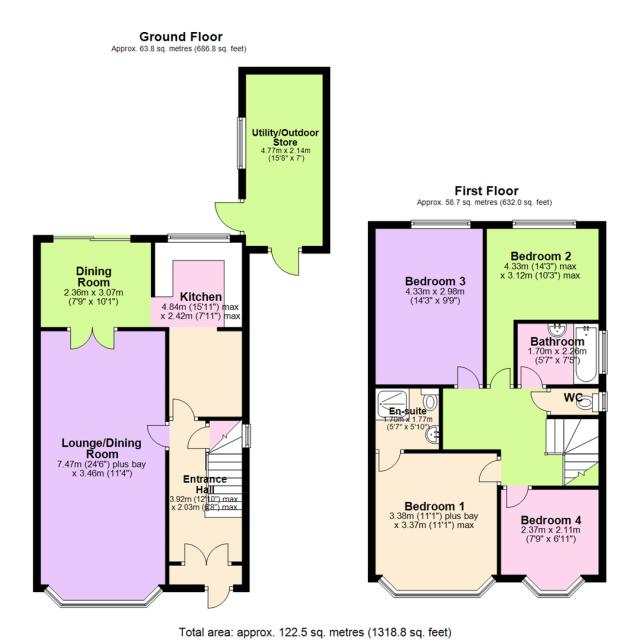DOOR: (212, 199, 247, 234), (267, 245, 302, 278), (143, 423, 171, 450), (205, 584, 232, 612), (454, 363, 481, 391), (518, 363, 545, 391), (476, 457, 503, 485), (503, 483, 531, 510), (170, 396, 197, 423), (377, 447, 403, 474), (185, 424, 211, 450), (487, 366, 513, 391), (528, 390, 552, 414)
DOUBLE DOOR: (67, 326, 118, 352)
ROOM: (31, 232, 251, 422), (30, 325, 170, 611), (211, 65, 333, 277), (481, 220, 607, 389), (366, 448, 503, 602), (367, 220, 489, 390), (495, 484, 607, 600)
SLIDING DOOR: (51, 234, 133, 243)
WINDOW: (390, 587, 482, 600), (59, 597, 149, 609), (410, 218, 473, 231), (512, 218, 578, 230), (166, 232, 231, 244), (234, 116, 248, 171), (40, 582, 66, 611), (374, 573, 400, 601), (596, 328, 610, 377), (141, 583, 166, 610), (475, 572, 499, 600), (519, 573, 542, 601), (564, 573, 587, 600), (239, 423, 255, 450), (536, 588, 572, 600), (597, 390, 611, 414)
